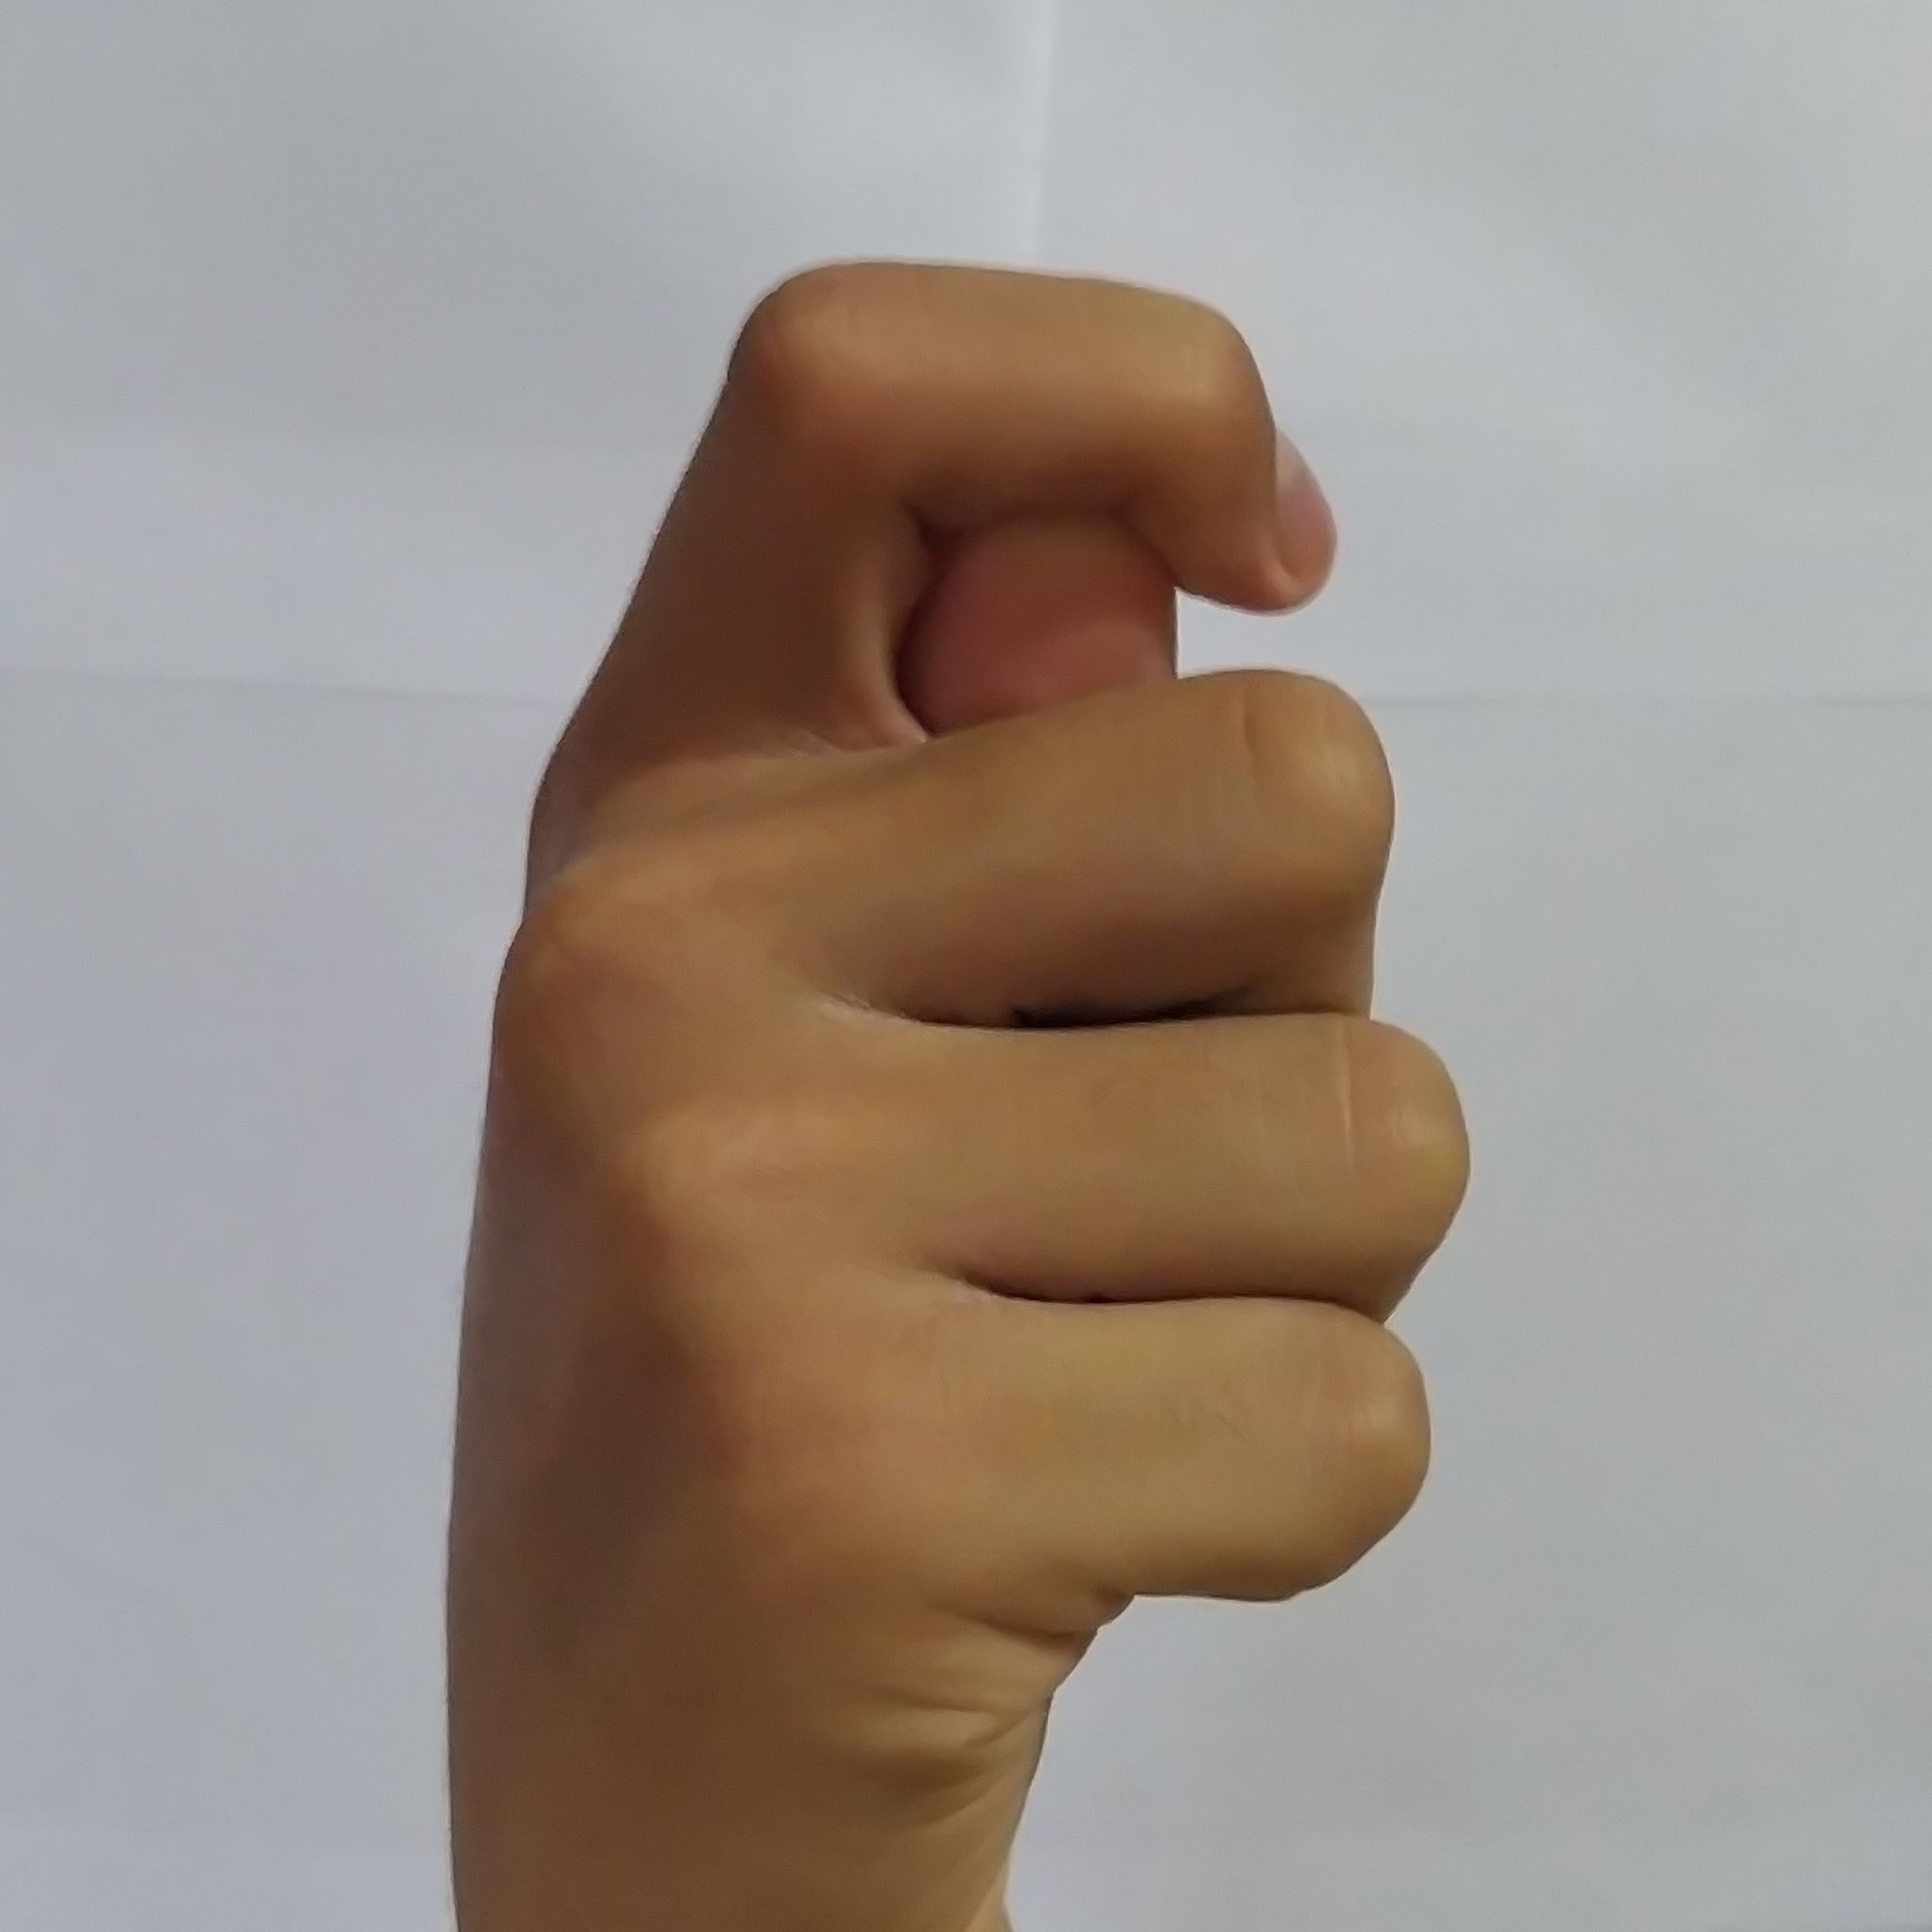T: (405, 209, 1506, 1932)
